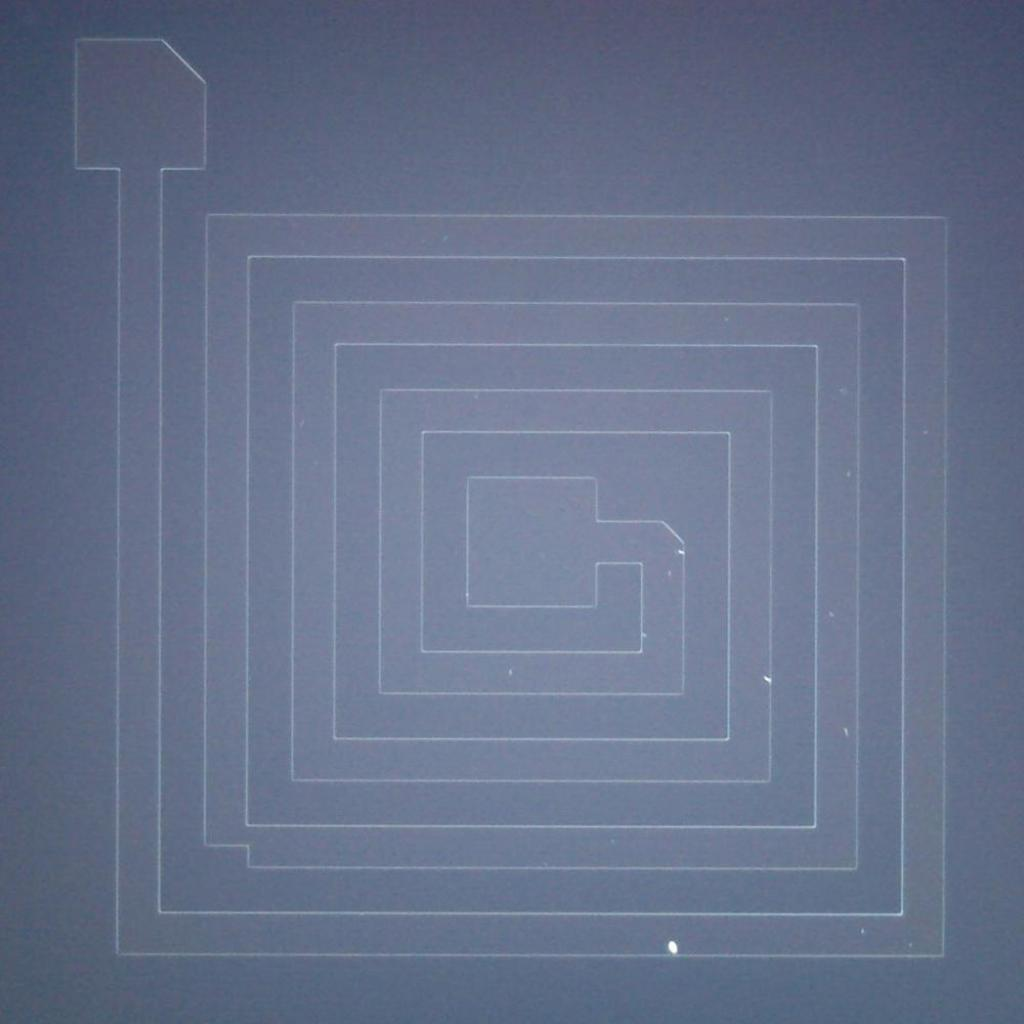dot: (667, 941, 680, 953), (507, 670, 514, 676), (763, 676, 769, 682), (843, 728, 849, 734), (860, 929, 865, 934)
